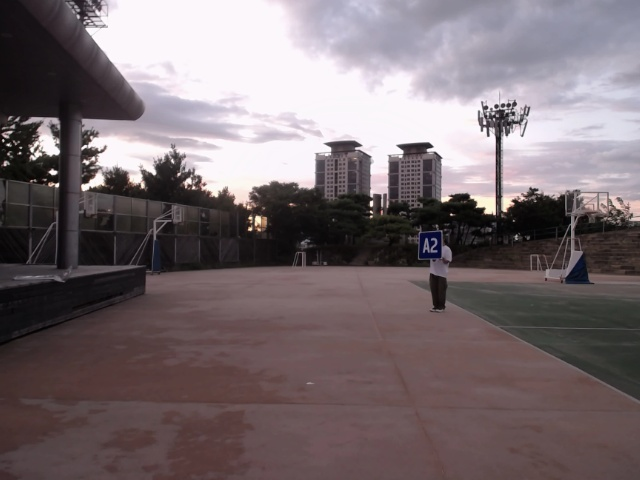delivery_a2: (418, 231, 442, 260)
